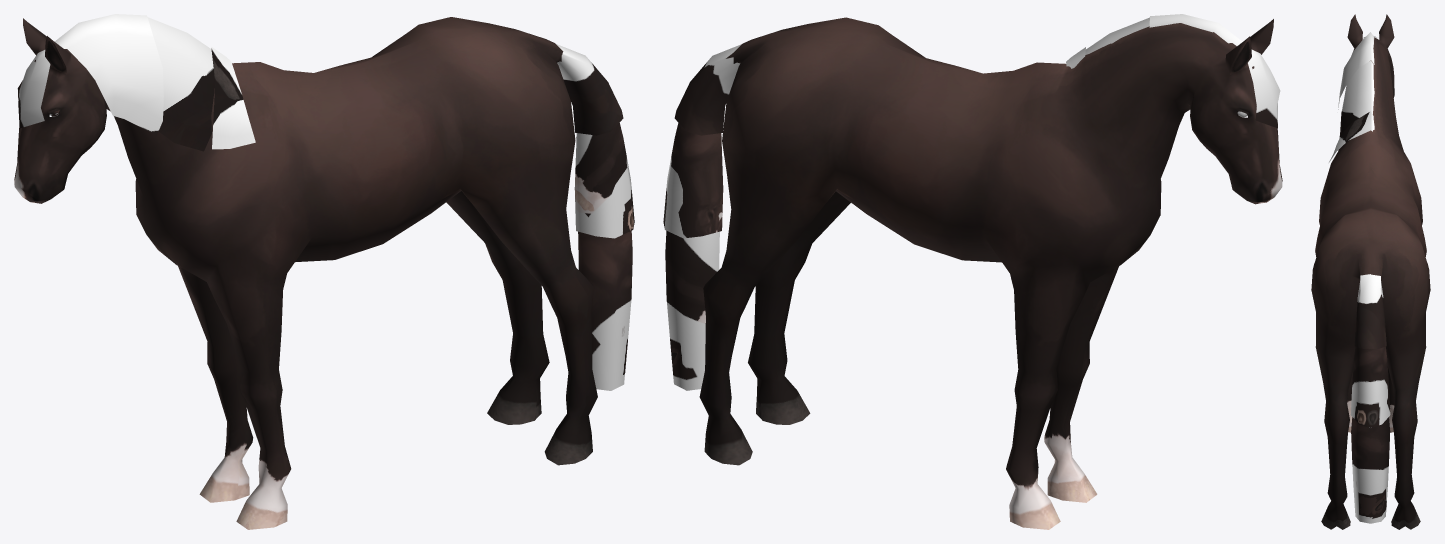
File: horse.glb
3 views of the same model, side by side, from view 1: azimuth 30°, elevation 25°; view 2: azimuth 150°, elevation 25°; view 3: azimuth 270°, elevation 25° (orthographic). The views are drawn at different scales.
Visible parts, largest first — view 1: Sketchfab_model; view 2: Sketchfab_model; view 3: Sketchfab_model.
Boxes of the visible parts, left/top/right/bottom form: Sketchfab_model: left=14, top=14, right=634, bottom=529; Sketchfab_model: left=663, top=14, right=1282, bottom=529; Sketchfab_model: left=1311, top=14, right=1430, bottom=529.
Bounding box in the file's own units: 0.0593 × 0.0486 × 0.0151.
1 material, 1 textured.
